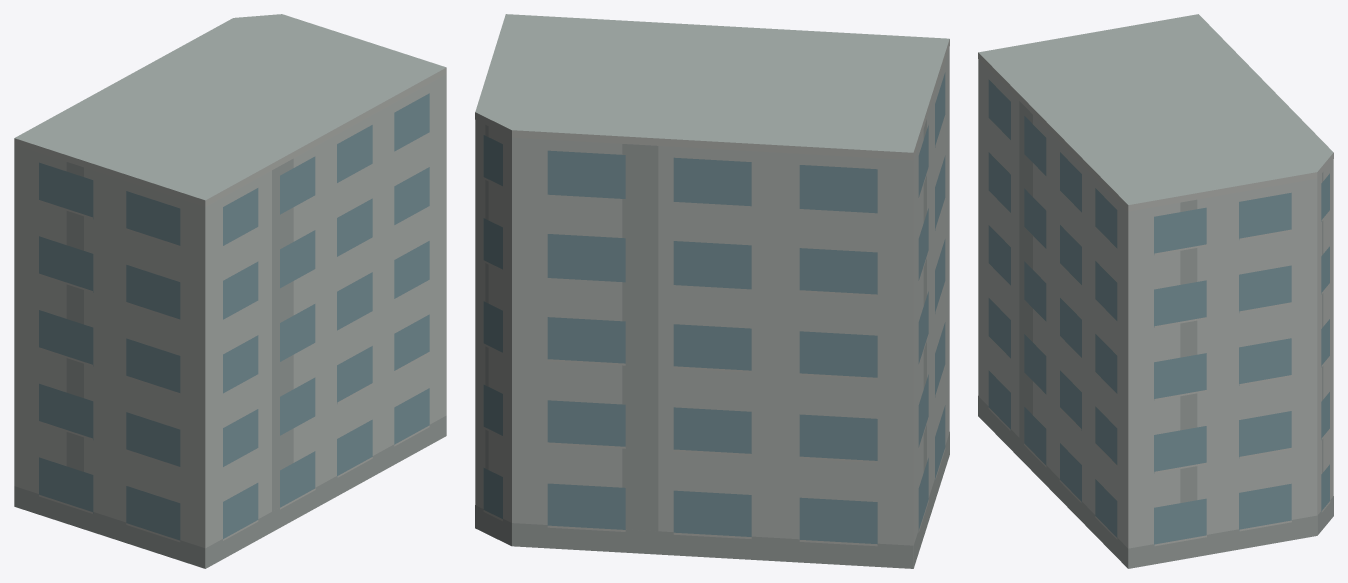
File: survey-upis-32887715.glb
3 views of the same model, side by side, from view 1: azimuth 30°, elevation 25°; view 2: azimuth 150°, elevation 25°; view 3: azimuth 270°, elevation 25° (orthographic). The views are drawn at different scales.
Visible parts, largest first — view 1: survey-upis-32887715.tmp; view 2: survey-upis-32887715.tmp; view 3: survey-upis-32887715.tmp.
Part boxes in pixels (bbox=[...]): survey-upis-32887715.tmp: bbox=[14, 14, 446, 568]; survey-upis-32887715.tmp: bbox=[475, 14, 949, 568]; survey-upis-32887715.tmp: bbox=[978, 14, 1333, 568].
Size of the model in its own units: 15.28 by 13.55 by 12.01.
